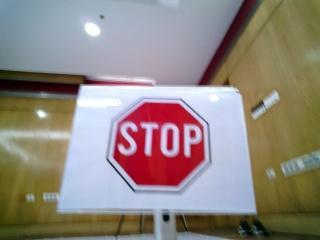stop: (95, 88, 225, 194)
